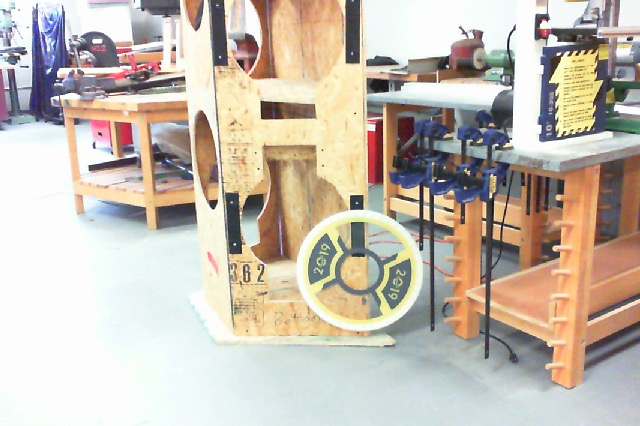Hatch: (295, 208, 423, 332)
